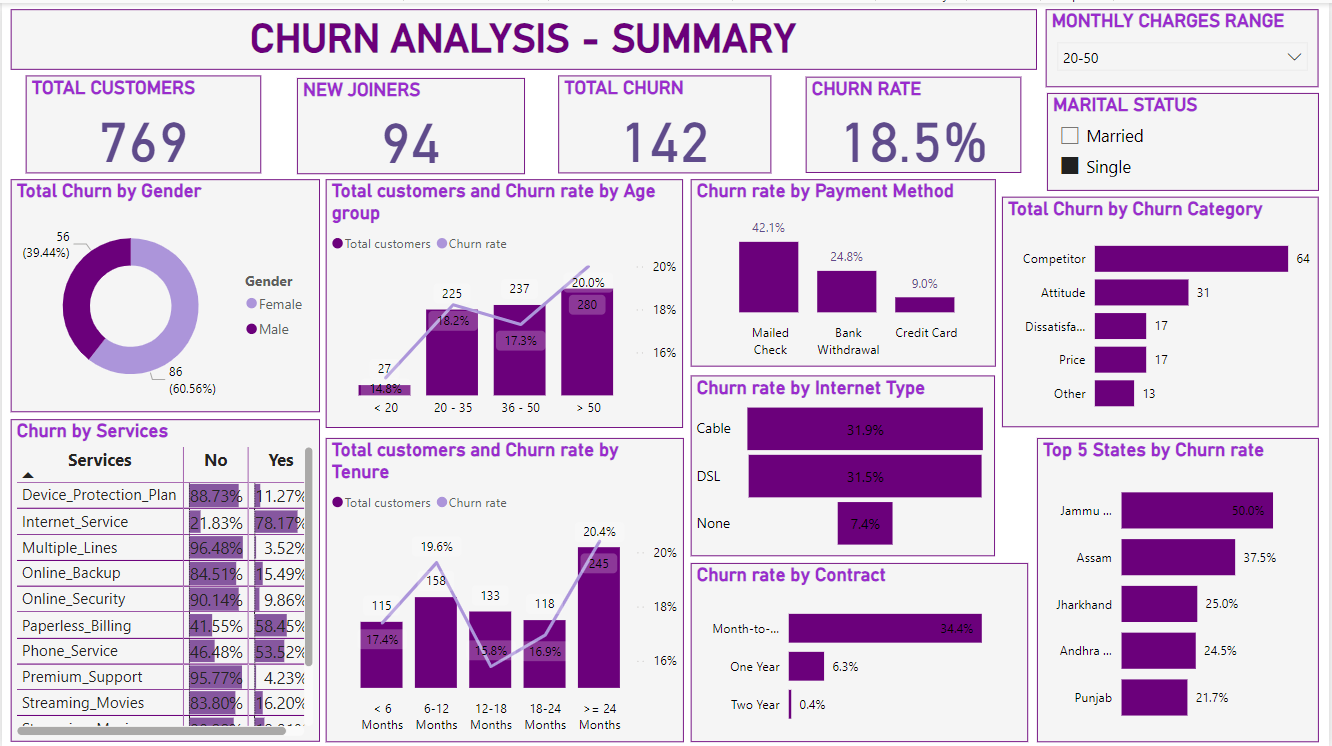

The dashboard page shown, as its layout file describes it:
{"tool":"powerbi","page":{"name":"Churn analysis","canvas":[1280,720],"ordinal":0},"visuals":[{"type":"card","title":"TOTAL CUSTOMERS","fields":{"Values":["Table_measures.Total customers"]},"box":[22.9,70,227.1,94.3],"z":0},{"type":"card","title":"TOTAL CHURN","fields":{"Values":["Table_measures.Total Churn"]},"box":[537.1,70,205.7,94.3],"z":1000},{"type":"card","title":"NEW JOINERS","fields":{"Values":["Table_measures.New Joiners"]},"box":[284.3,72.9,220,92.9],"z":2000},{"type":"card","title":"CHURN RATE","fields":{"Values":["Table_measures.Churn rate"]},"box":[775.8,71.7,208.3,92.5],"z":3000},{"type":"donutChart","fields":{"Category":["Churn_details.Gender"],"Y":["Table_measures.Total Churn"]},"box":[8.3,170,298.3,225],"z":4000},{"type":"lineStackedColumnComboChart","title":"Total customers and Churn rate by Age group","fields":{"Category":["age_group.age group"],"Y2":["Table_measures.Churn rate"],"Y":["Table_measures.Total customers"]},"box":[312.5,170,345,240],"z":5000},{"type":"clusteredColumnChart","title":"Churn rate by Payment Method","fields":{"Category":["Churn_details.Payment_Method"],"Y":["Table_measures.Churn rate"]},"box":[664.2,170,294.2,180.8],"z":6000},{"type":"clusteredBarChart","fields":{"Category":["Churn_details.Contract"],"Y":["Table_measures.Churn rate"]},"box":[664.3,540,325.7,172.9],"z":7000},{"type":"lineStackedColumnComboChart","title":"Total customers and Churn rate by Tenure","fields":{"Y":["Table_measures.Total customers"],"Category":["tenure_group.tenure group"],"Y2":["Table_measures.Churn rate"]},"box":[312.1,419.3,345.7,293.6],"z":8000},{"type":"clusteredBarChart","title":"Top 5 States by Churn rate","fields":{"Category":["Churn_details.State"],"Y":["Table_measures.Churn rate"]},"box":[998.6,419.3,272.1,293.6],"z":9000},{"type":"clusteredBarChart","title":"Total Churn by Churn Category","fields":{"Category":["Churn_details.Churn_Category"],"Y":["Table_measures.Total Churn"]},"box":[965,186.7,305.8,222.5],"z":10000},{"type":"funnel","title":"Churn rate by Internet Type","fields":{"Category":["Churn_details.Internet_Type"],"Y":["Table_measures.Churn rate"]},"box":[664.2,360,293.3,174.2],"z":11000},{"type":"pivotTable","title":"Churn by Services","fields":{"Rows":["services.services"],"Columns":["services.status"],"Values":["Sum(services.Churn Status)"]},"box":[8.6,401.4,298.6,311.4],"z":12000},{"type":"slicer","title":"MONTHLY CHARGES RANGE","fields":{"Values":["Churn_details.Monthly Charge Range"]},"box":[1007.5,5.8,263.3,75],"z":13000},{"type":"slicer","title":"MARITAL STATUS","fields":{"Values":["Churn_details.Marital status"]},"box":[1008.3,86.7,262.5,94.2],"z":14000},{"type":"textbox","box":[8.6,5.7,990,58.6],"z":15000}]}

Visuals, with their boxes in screenshot pixels (x1, y1, x2, y2), scaled from the page's 1280x720 canvas onto the 1332x746 screenshot:
"TOTAL CUSTOMERS" card: bbox=[24, 73, 260, 170]
"TOTAL CHURN" card: bbox=[559, 73, 773, 170]
"NEW JOINERS" card: bbox=[296, 76, 525, 172]
"CHURN RATE" card: bbox=[807, 74, 1024, 170]
donutChart - Churn_details.Gender x Table_measures.Total Churn: bbox=[9, 176, 319, 409]
"Total customers and Churn rate by Age group" lineStackedColumnComboChart: bbox=[325, 176, 684, 425]
"Churn rate by Payment Method" clusteredColumnChart: bbox=[691, 176, 997, 363]
clusteredBarChart - Churn_details.Contract x Table_measures.Churn rate: bbox=[691, 560, 1030, 739]
"Total customers and Churn rate by Tenure" lineStackedColumnComboChart: bbox=[325, 434, 685, 739]
"Top 5 States by Churn rate" clusteredBarChart: bbox=[1039, 434, 1322, 739]
"Total Churn by Churn Category" clusteredBarChart: bbox=[1004, 193, 1322, 424]
"Churn rate by Internet Type" funnel: bbox=[691, 373, 996, 553]
"Churn by Services" pivotTable: bbox=[9, 416, 320, 739]
"MONTHLY CHARGES RANGE" slicer: bbox=[1048, 6, 1322, 84]
"MARITAL STATUS" slicer: bbox=[1049, 90, 1322, 187]
textbox: bbox=[9, 6, 1039, 67]
